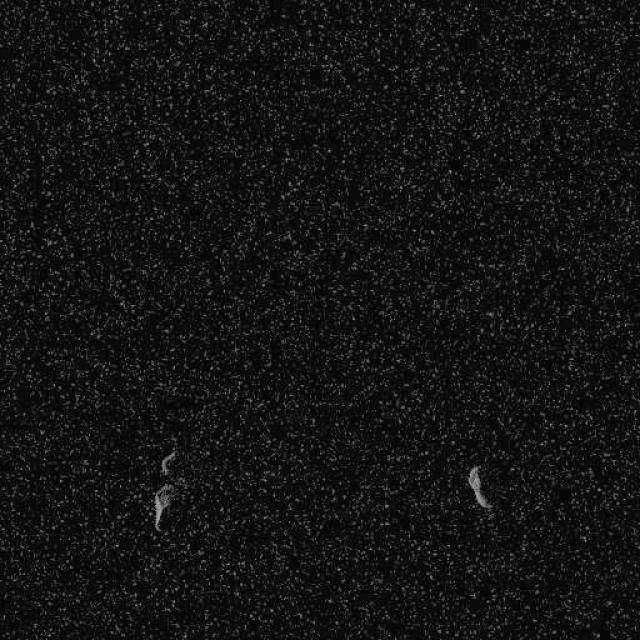D2: (151, 443, 180, 532), (467, 464, 492, 510)
